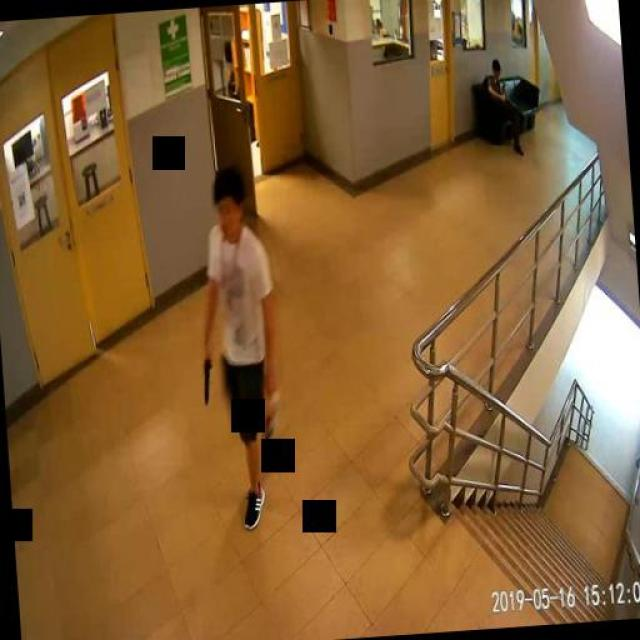gun: (199, 351, 215, 405)
